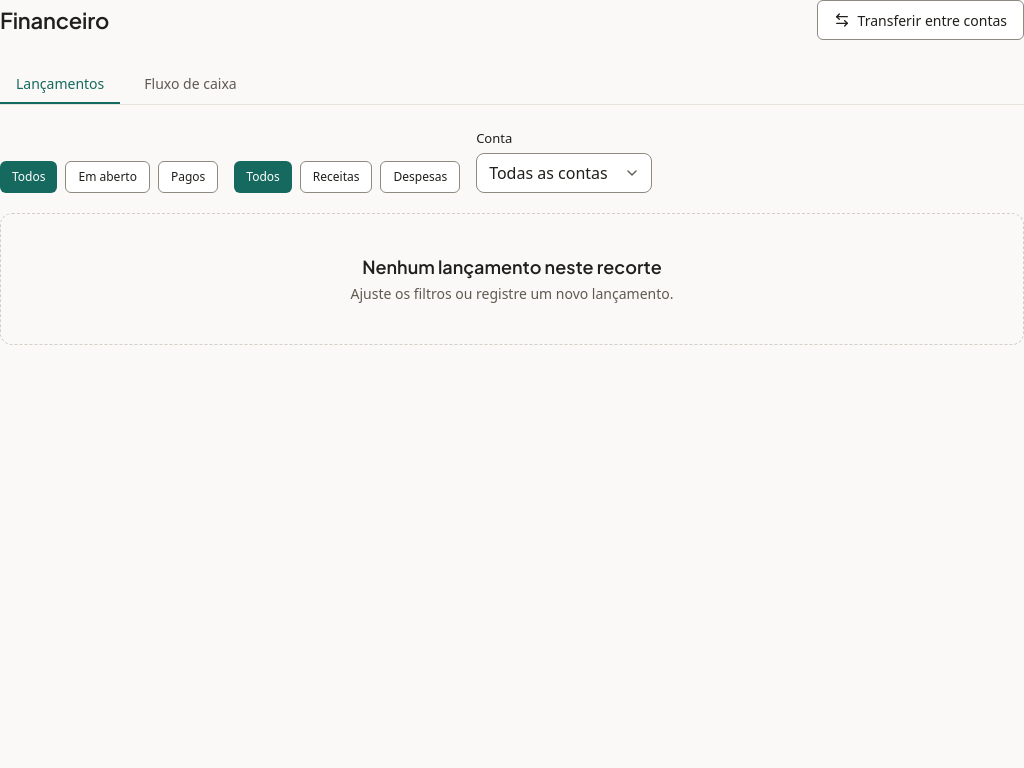
Test case: Transferir entre contas — o botão e o diálogo › deve abrir com a data de hoje no fuso da CLÍNICA, não no do aparelho
The width and height of the screenshot is (1024, 768).
Click the button "Transferir entre contas" at x=920, y=20, box x1=817 y1=0 x2=1023 y2=40
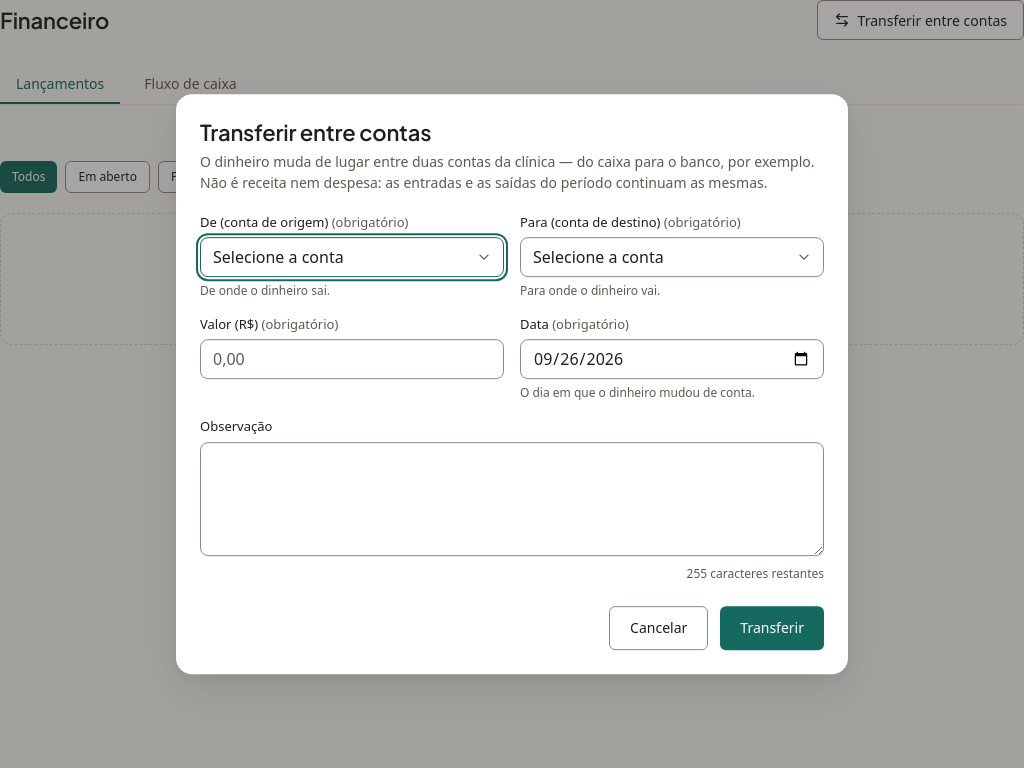
Now the date field labelled "Data (obrigatório)" holds "2026-09-26", box x1=520 y1=339 x2=824 y2=379
